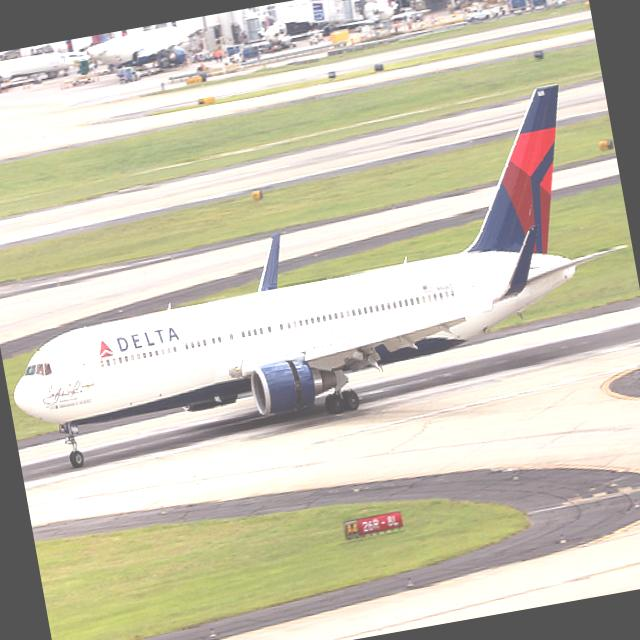Vehicle: (117, 64, 143, 84), (463, 5, 489, 22)
